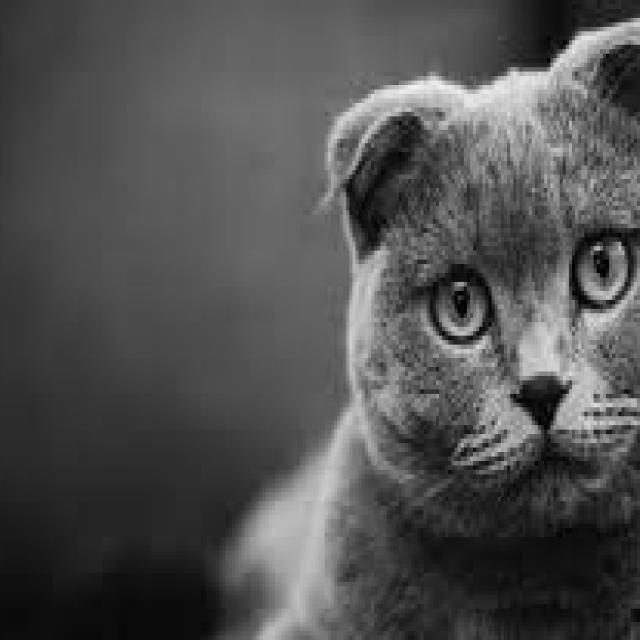scootish: (297, 18, 640, 541)
